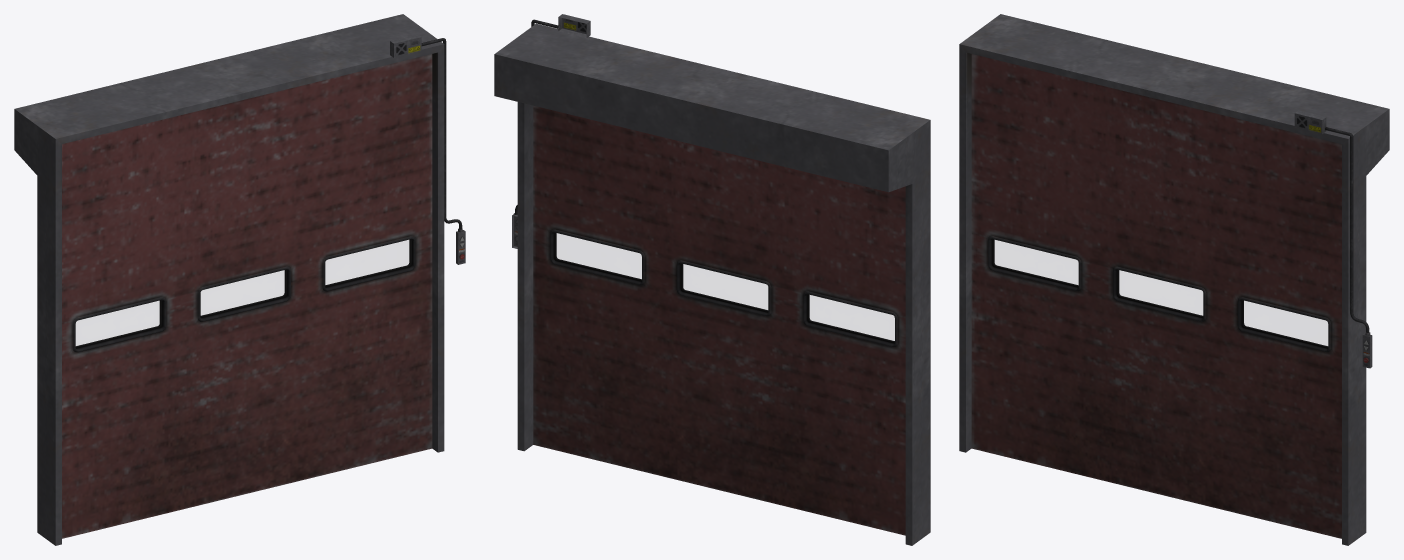
File: Rollup Door 5.glb
The picture shows the model from 3 angles, left to right: view 1: azimuth 30°, elevation 25°; view 2: azimuth 150°, elevation 25°; view 3: azimuth 330°, elevation 25°; orthographic projection.
Parts seen in each view (by area): view 1: Rollup_Door_5_Door, Rollup_Door_5_Door_Frame, Rollup_Door_5_Control_Switch; view 2: Rollup_Door_5_Door, Rollup_Door_5_Door_Frame, Rollup_Door_5_Control_Switch; view 3: Rollup_Door_5_Door, Rollup_Door_5_Door_Frame, Rollup_Door_5_Control_Switch.
Part boxes in pixels (<box>): Rollup_Door_5_Door: <box>62,54,432,538</box>; Rollup_Door_5_Door_Frame: <box>14,14,444,545</box>; Rollup_Door_5_Control_Switch: <box>390,34,465,264</box>; Rollup_Door_5_Door: <box>533,105,905,535</box>; Rollup_Door_5_Door_Frame: <box>494,23,930,545</box>; Rollup_Door_5_Control_Switch: <box>512,14,590,248</box>; Rollup_Door_5_Door: <box>971,54,1341,538</box>; Rollup_Door_5_Door_Frame: <box>959,14,1389,545</box>; Rollup_Door_5_Control_Switch: <box>1294,110,1372,368</box>.
Bounding box in the file's own units: 3.17 × 3.1 × 0.5721.
Materials: 2 (2 with a texture image).
